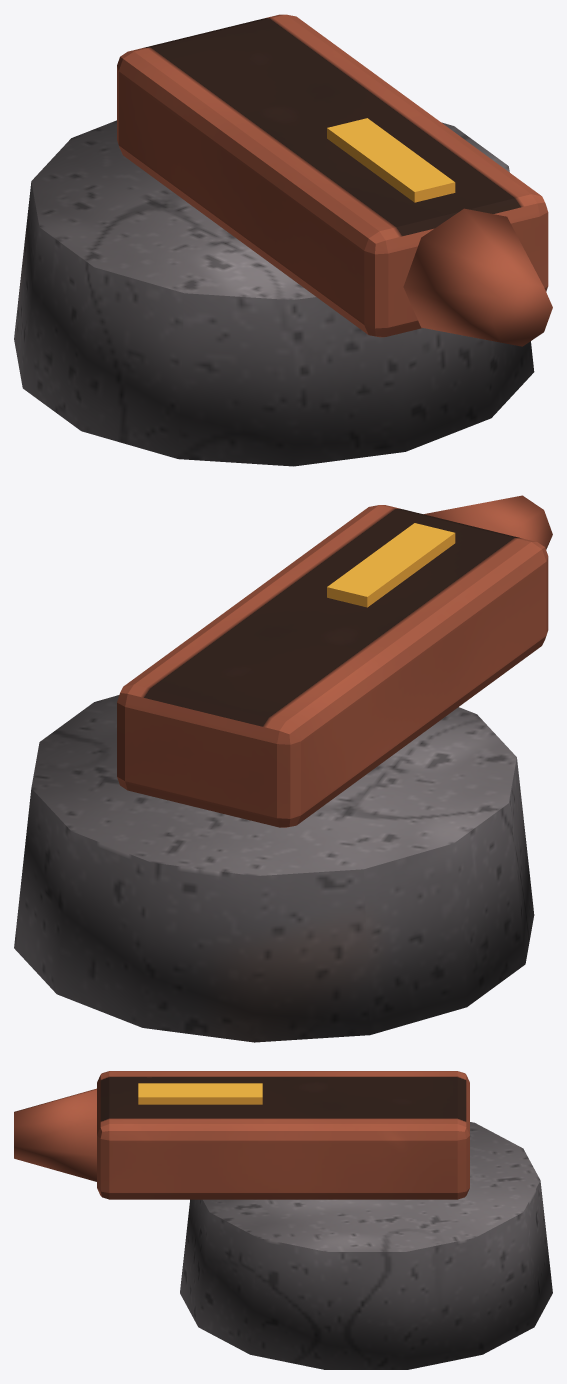
File: lava_chute.glb
3 views of the same model, one above another, from view 1: azimuth 30°, elevation 25°; view 2: azimuth 150°, elevation 25°; view 3: azimuth 270°, elevation 25° (orthographic). The views are drawn at different scales.
Visible parts, largest first — view 1: Chute; view 2: Chute; view 3: Chute.
Part boxes in pixels (x1,y1,x2,y2): Chute: (14, 14, 552, 466); Chute: (14, 495, 552, 1042); Chute: (14, 1071, 552, 1369).
Bounding box in the file's own units: 0.8774 × 0.54 × 1.3.
Materials: 1 (1 with a texture image).
